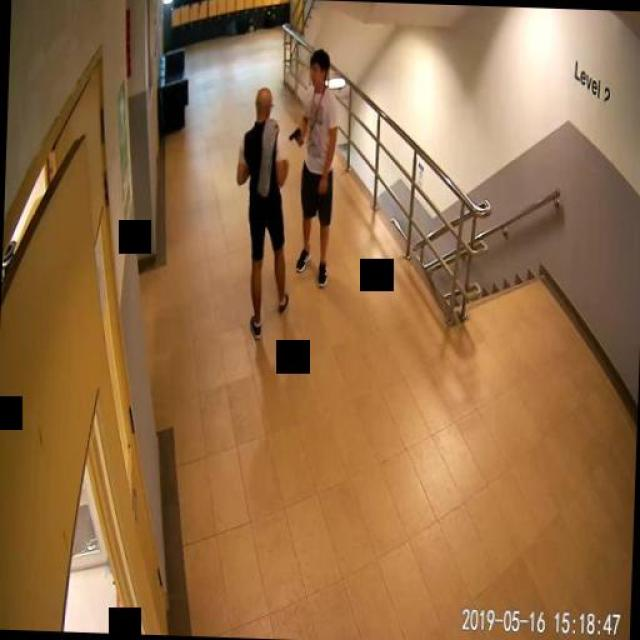gun: (286, 125, 302, 144)
